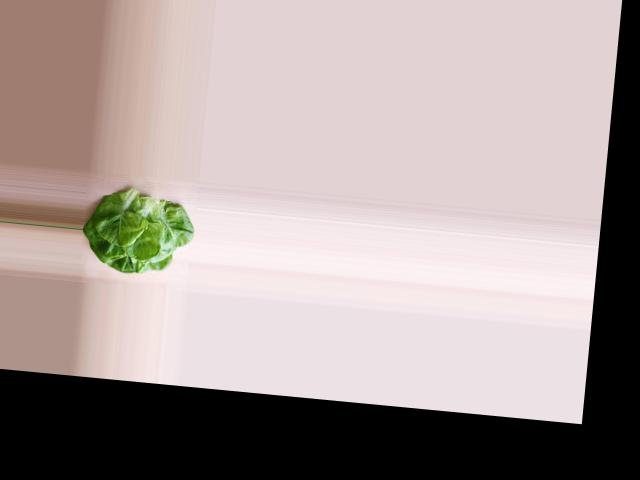lettuce: (81, 187, 194, 278)
